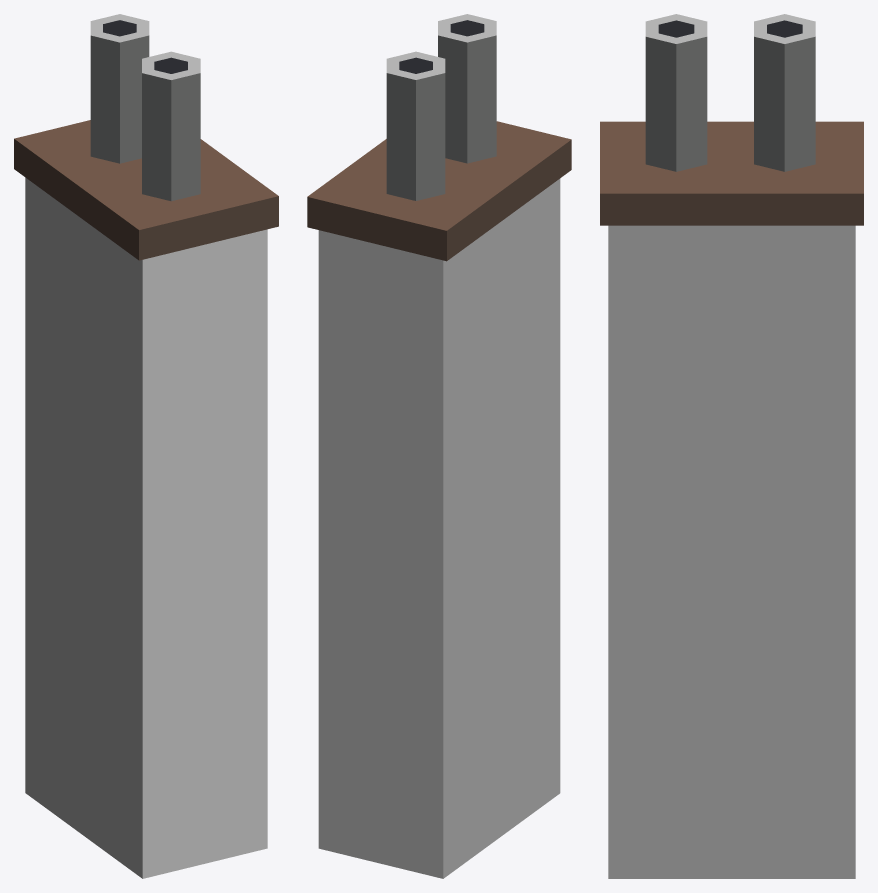
The model's file is TB_CITY_BD_Chimney_C.FBX.
The picture shows the model from 3 angles, left to right: view 1: azimuth 30°, elevation 25°; view 2: azimuth 150°, elevation 25°; view 3: azimuth 270°, elevation 25°; orthographic projection. The views are drawn at different scales.
Visible parts, largest first — view 1: TB_CITY_BD_Chimney_C; view 2: TB_CITY_BD_Chimney_C; view 3: TB_CITY_BD_Chimney_C.
Boxes of the visible parts, x1,y1,x2,y2 form: TB_CITY_BD_Chimney_C: (14,14,278,878); TB_CITY_BD_Chimney_C: (307,14,571,878); TB_CITY_BD_Chimney_C: (600,14,863,878).
Size of the model in its own units: 1.46 by 7.75 by 2.27.
